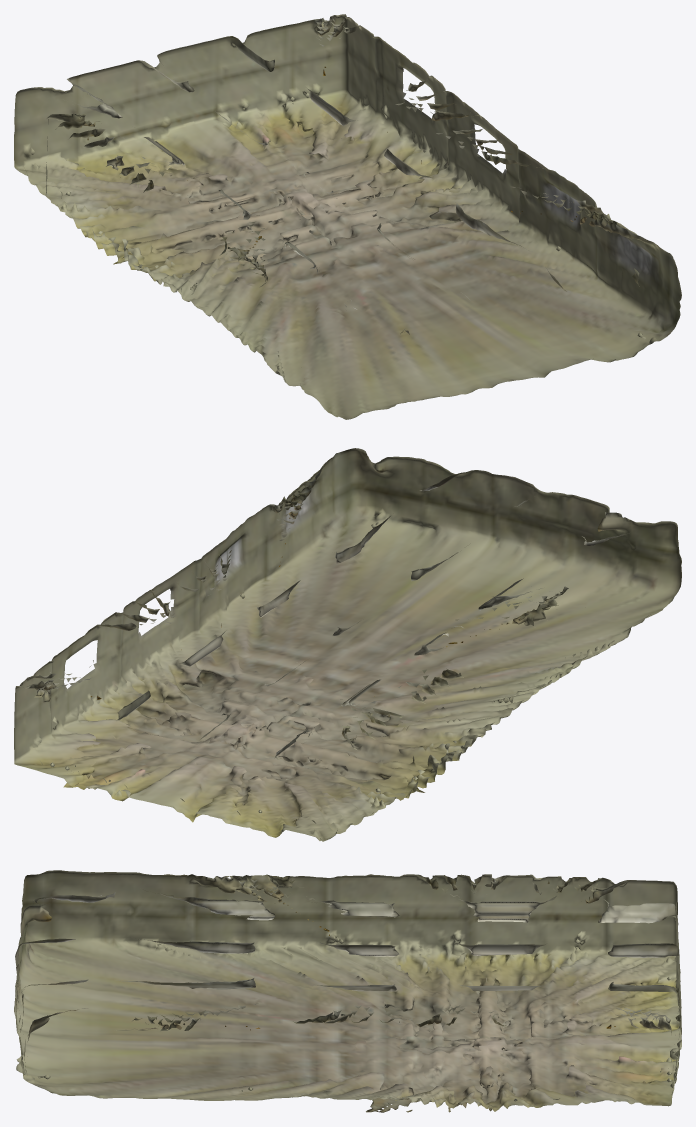
File: Cramped Garment Sweatshop_collider.glb
3 views of the same model, one above another, from view 1: azimuth 30°, elevation 25°; view 2: azimuth 150°, elevation 25°; view 3: azimuth 270°, elevation 25° (orthographic). The views are drawn at different scales.
Visible parts, largest first — view 1: world; view 2: world; view 3: world.
Boxes of the visible parts, x1,y1,x2,y2 form: world: (14,14,681,419); world: (14,448,681,841); world: (14,870,681,1112).
Size of the model in its own units: 17.69 by 5.28 by 31.09.
